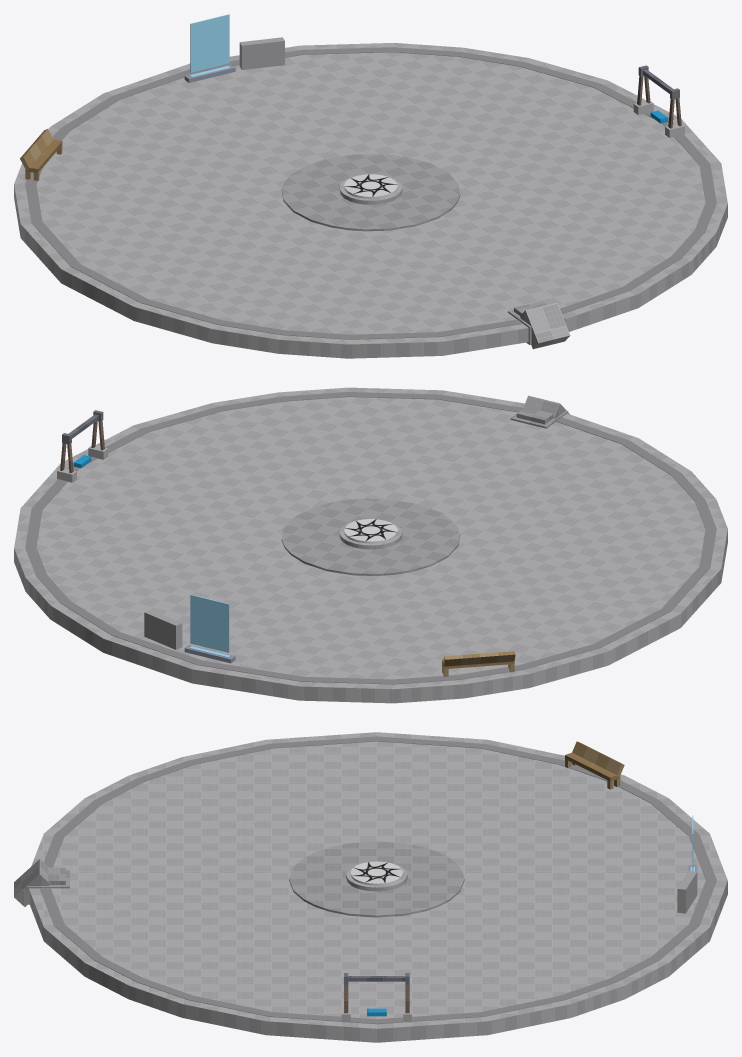
Rendered from Lobby.gltf.
3 renders of one model, top to bottom at view 1: azimuth 30°, elevation 25°; view 2: azimuth 150°, elevation 25°; view 3: azimuth 270°, elevation 25°, orthographic.
Visible parts, largest first — view 1: Base, Ring, ThrusterSupport, Texture, Display, BouncePadHolder, Abstractiez, SpawnLocation, Part, Brick; view 2: Base, Ring, ThrusterSupport, Texture, Display, Abstractiez, BouncePadHolder, SpawnLocation, Part, Brick; view 3: Base, Ring, ThrusterSupport, Texture, BouncePadHolder, Part (×2), SpawnLocation, Abstractiez, Brick.
Part boxes in pixels (x1=…): Base: x1=14, y1=43, x2=727, y2=358; Ring: x1=25, y1=47, x2=716, y2=339; ThrusterSupport: x1=281, y1=154, x2=460, y2=231; Texture: x1=18, y1=43, x2=725, y2=343; Display: x1=190, y1=14, x2=229, y2=72; BouncePadHolder: x1=508, y1=301, x2=570, y2=349; Abstractiez: x1=239, y1=37, x2=284, y2=69; SpawnLocation: x1=344, y1=174, x2=397, y2=198; Part: x1=20, y1=129, x2=53, y2=169; Brick: x1=339, y1=175, x2=402, y2=204; Base: x1=14, y1=387, x2=727, y2=703; Ring: x1=25, y1=392, x2=716, y2=684; ThrusterSupport: x1=281, y1=498, x2=460, y2=575; Texture: x1=17, y1=388, x2=725, y2=688; Display: x1=190, y1=594, x2=229, y2=652; Abstractiez: x1=144, y1=610, x2=182, y2=649; BouncePadHolder: x1=510, y1=395, x2=569, y2=428; SpawnLocation: x1=344, y1=519, x2=397, y2=543; Part: x1=443, y1=651, x2=515, y2=666; Brick: x1=339, y1=520, x2=402, y2=549; Base: x1=29, y1=732, x2=727, y2=1042; Ring: x1=40, y1=736, x2=716, y2=1024; ThrusterSupport: x1=289, y1=841, x2=464, y2=917; Texture: x1=34, y1=732, x2=723, y2=1027; BouncePadHolder: x1=14, y1=859, x2=69, y2=906; Part (×2): x1=565, y1=741, x2=624, y2=781; SpawnLocation: x1=350, y1=861, x2=403, y2=885; Abstractiez: x1=677, y1=871, x2=697, y2=913; Brick: x1=346, y1=863, x2=407, y2=891.
Size of the model in its own units: 160 by 25 by 163.
14 materials, 2 textured.
